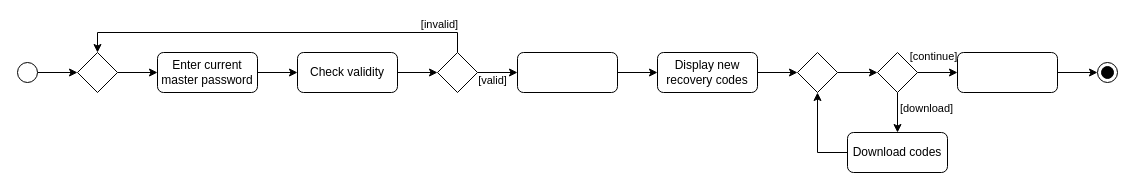
Image size: 1135x190. Some labels were removed from this diagram. The centre of each missing label's shape, as x and y in pixels:
Commit data: point (1007, 72)
Generate new recovery codes: point (567, 72)
